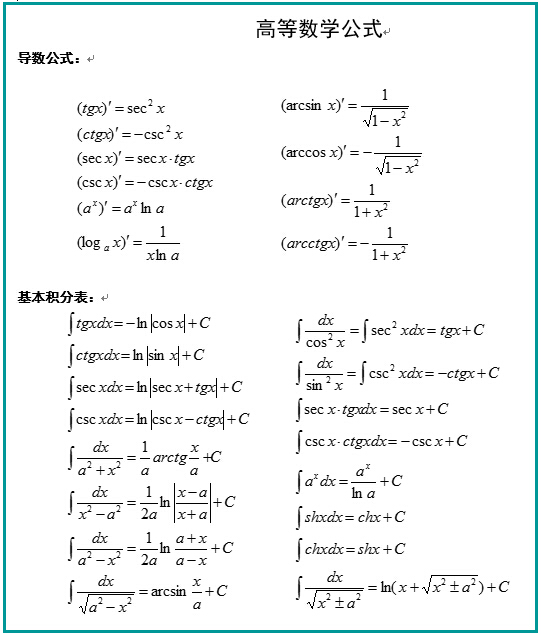division: (370, 146, 431, 161), (304, 583, 367, 595), (78, 588, 137, 598), (362, 101, 409, 113), (74, 453, 121, 463), (302, 326, 348, 336), (303, 372, 345, 382), (176, 497, 209, 509), (76, 499, 124, 507), (355, 197, 401, 205), (138, 496, 159, 511), (147, 238, 178, 248), (175, 545, 206, 555), (76, 547, 124, 553), (371, 241, 416, 247), (352, 479, 374, 486), (138, 455, 152, 462), (189, 455, 201, 463), (192, 586, 202, 595)
sqrt: (420, 570, 484, 599), (80, 593, 148, 618), (306, 589, 372, 612), (374, 153, 428, 180), (75, 500, 136, 522), (365, 105, 413, 132)
square: (389, 314, 398, 333), (83, 547, 96, 559), (84, 458, 95, 472), (411, 156, 423, 168), (124, 593, 136, 605), (400, 242, 411, 255), (112, 548, 125, 559), (144, 96, 155, 108), (388, 364, 399, 376), (113, 460, 127, 469), (397, 108, 407, 120), (114, 503, 124, 515), (84, 504, 95, 514), (97, 594, 107, 605), (163, 122, 171, 135), (355, 591, 365, 601), (326, 374, 336, 384), (380, 203, 392, 211), (469, 576, 478, 585), (443, 576, 448, 587), (326, 591, 332, 599)
